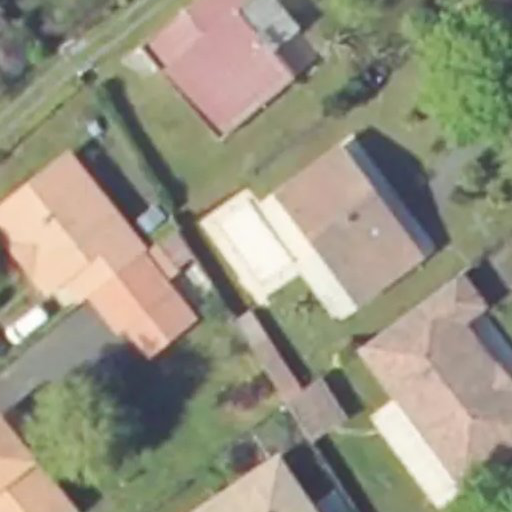pool: (206, 197, 297, 291)
